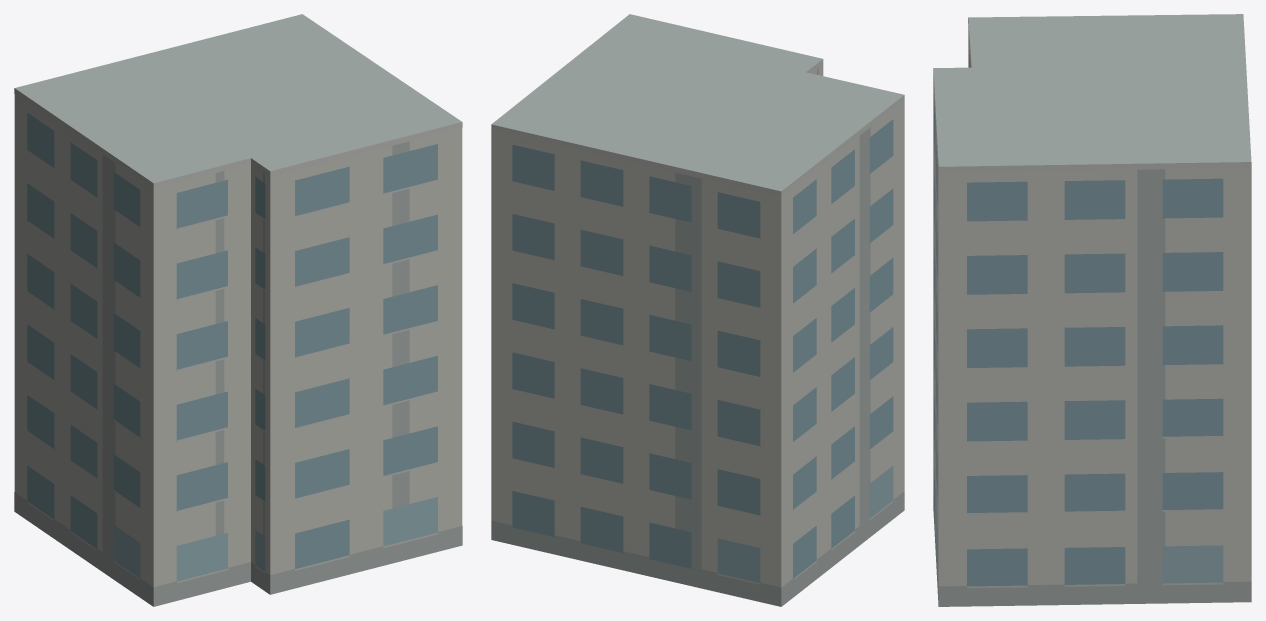
The model's file is survey-upis-32602798.glb.
The picture shows the model from 3 angles, left to right: view 1: azimuth 30°, elevation 25°; view 2: azimuth 150°, elevation 25°; view 3: azimuth 270°, elevation 25°; orthographic projection. The views are drawn at different scales.
Visible parts, largest first — view 1: survey-upis-32602798.tmp; view 2: survey-upis-32602798.tmp; view 3: survey-upis-32602798.tmp.
Boxes of the visible parts, left/top/right/bottom form: survey-upis-32602798.tmp: left=14, top=14, right=462, bottom=606; survey-upis-32602798.tmp: left=491, top=14, right=904, bottom=606; survey-upis-32602798.tmp: left=933, top=14, right=1251, bottom=606.
Bounding box in the file's own units: 13.15 × 17.65 × 11.57.
